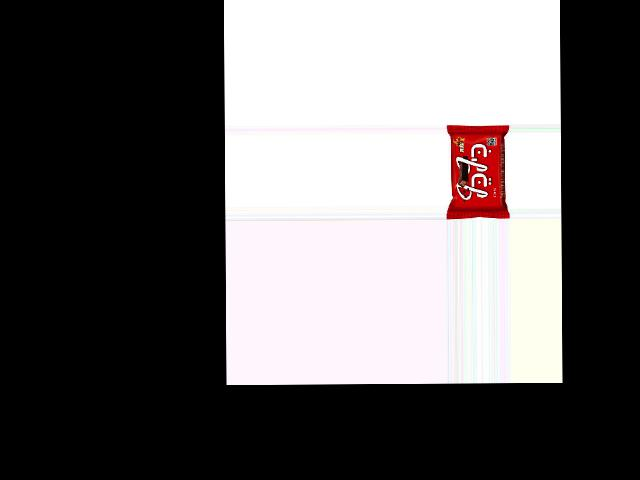chocolate: (446, 125, 510, 218)
